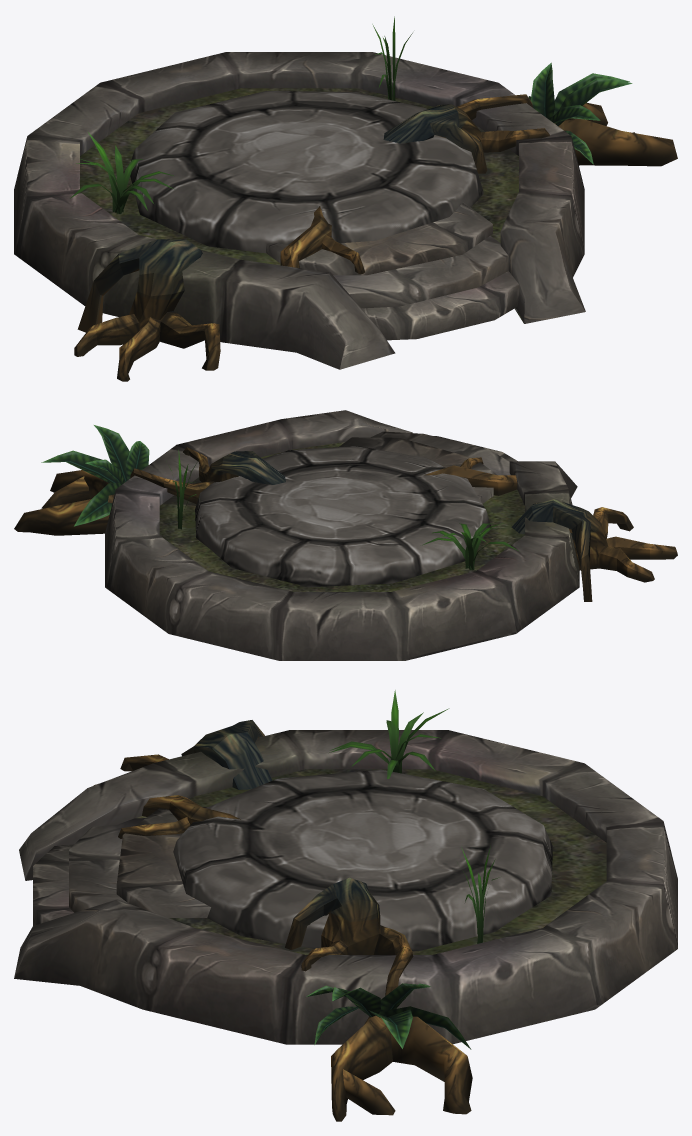
Rendered from Character_Select_Prop.FBX.
3 renders of one model, top to bottom at view 1: azimuth 30°, elevation 25°; view 2: azimuth 150°, elevation 25°; view 3: azimuth 270°, elevation 25°, orthographic. The views are drawn at different scales.
Parts seen in each view (by area): view 1: Player_Select_Prop; view 2: Player_Select_Prop; view 3: Player_Select_Prop.
Boxes of the visible parts, x1,y1,x2,y2 form: Player_Select_Prop: [14, 16, 677, 381]; Player_Select_Prop: [14, 410, 677, 660]; Player_Select_Prop: [14, 690, 677, 1121].
Bounding box in the file's own units: 4.16 × 0.8835 × 3.33.
Materials: 1 (1 with a texture image).
